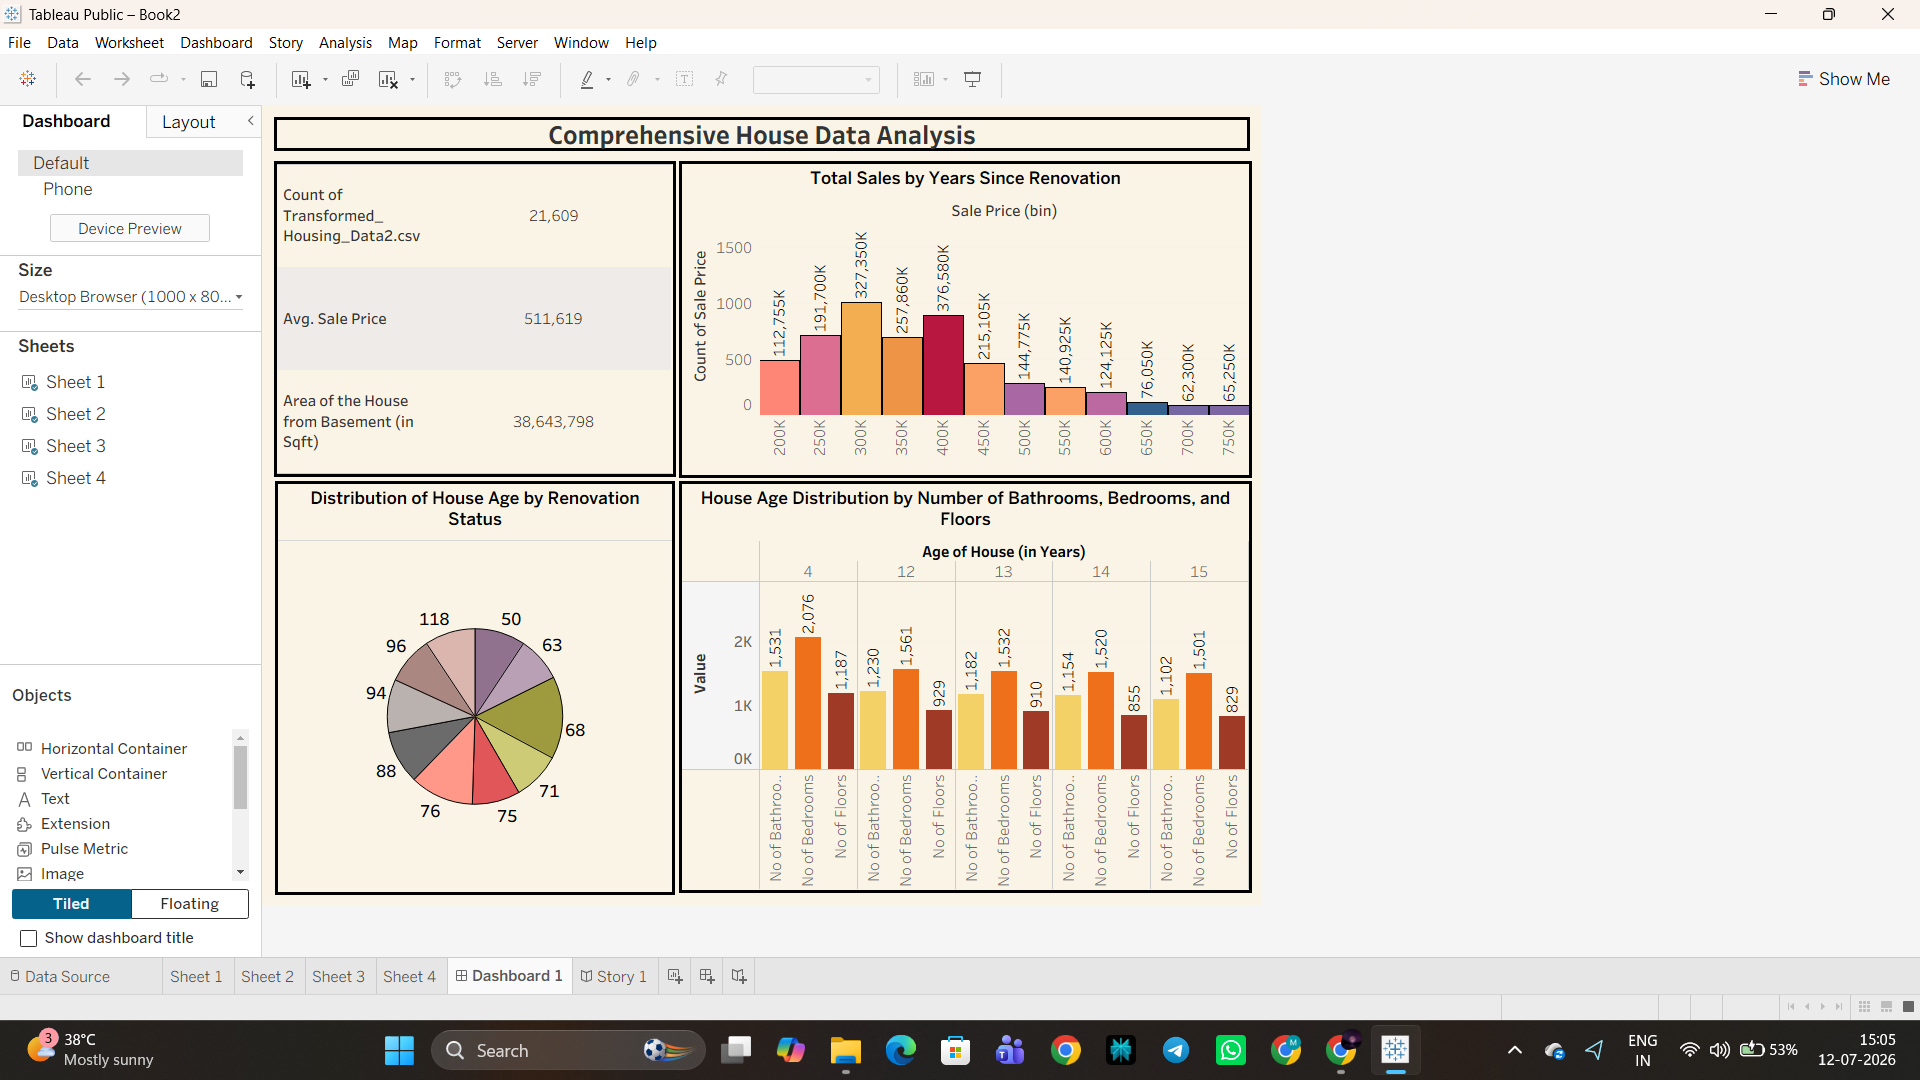

What the dashboard file says about the page in this screenshot:
{"tool":"tableau","page":{"name":"Dashboard 1","canvas":[1000,800],"ordinal":0},"visuals":[{"type":"title","box":[8,8,984,49]},{"type":"worksheet","title":"Sheet 2","mark":"Automatic","box":[12,56,402,316]},{"type":"worksheet","title":"Sheet 1","mark":"Automatic","rows":["Sale_Price"],"cols":["Sale Price (bin)"],"box":[417,56,573,317]},{"type":"worksheet","title":"Sheet 3","mark":"Pie","box":[13,376,400,414]},{"type":"worksheet","title":"Sheet 4","mark":"Bar","cols":["Age of House (in Years)"],"box":[417,376,573,412]}]}

Visuals, with their boxes on the page's 1000x800 design canvas (x1, y1, x2, y2). These are canvas units, not pixel positions in the 1920x1080 screenshot, which may show the page scaled, cropped or inside an application window:
title: 8:8:992:57
"Sheet 2" worksheet: 12:56:414:372
"Sheet 1" worksheet: 417:56:990:373
"Sheet 3" worksheet (Pie marks): 13:376:413:790
"Sheet 4" worksheet (Bar marks): 417:376:990:788
